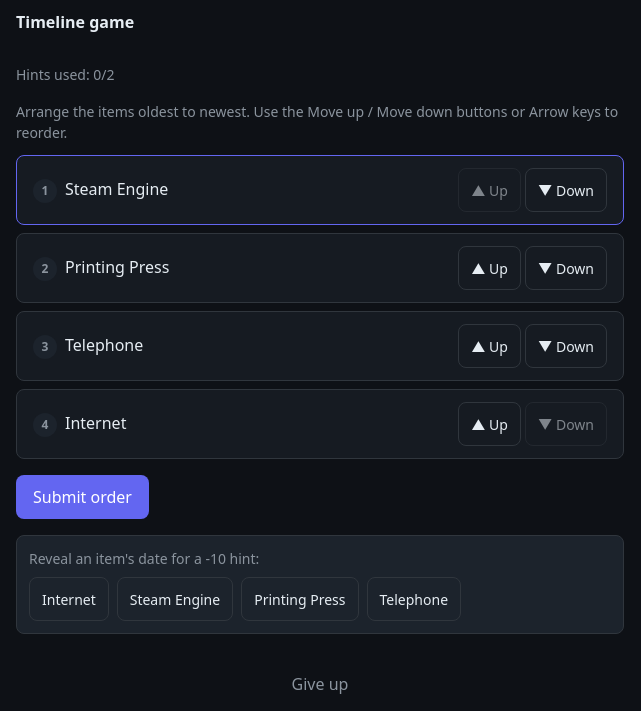
TimelineGame — hints › allows a second hint on a different item
The width and height of the screenshot is (641, 711).
Click the button "Printing Press" at (300, 599), box [241, 577, 359, 621]
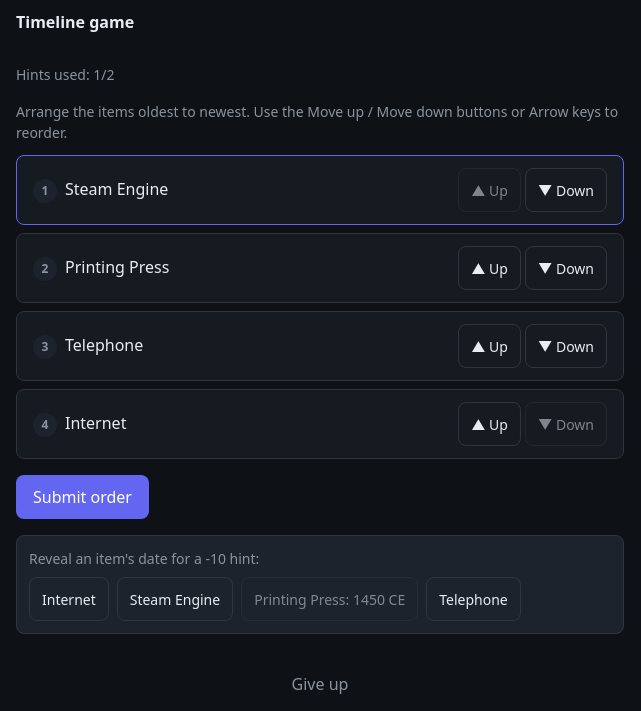
Click the button "Internet" at (69, 599), box [29, 577, 109, 621]
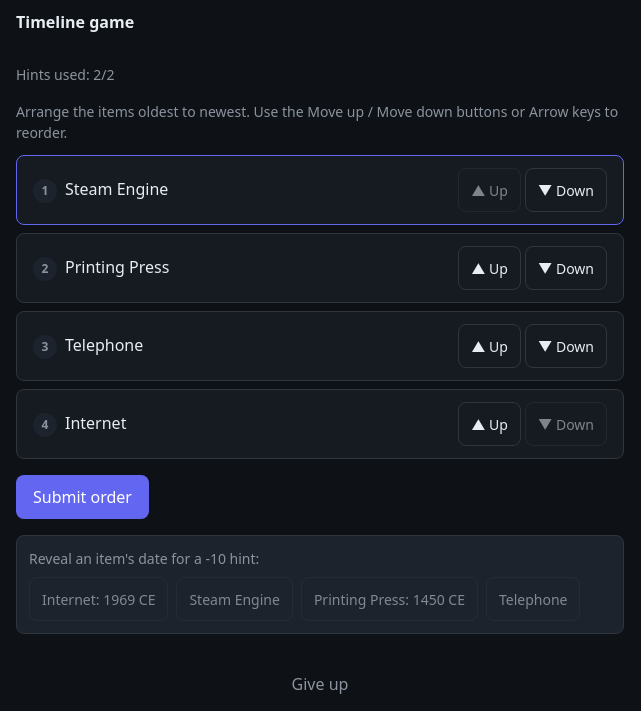
expect the text "Hints used: 2/2" is shown: met, box [16, 65, 114, 84]
